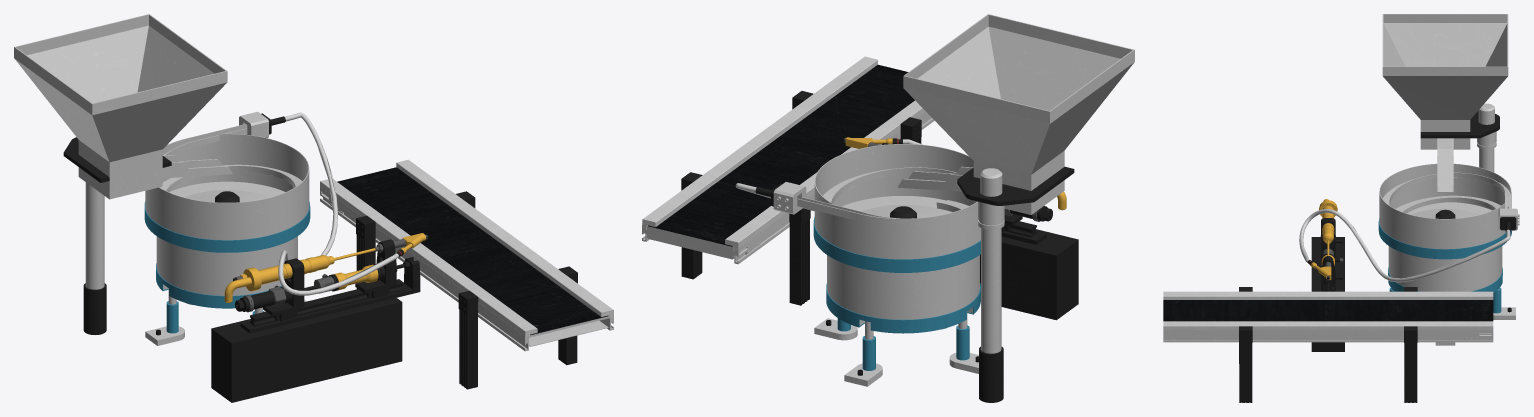
File: Pin_Insertion_Station.glb
The picture shows the model from 3 angles, left to right: view 1: azimuth 30°, elevation 25°; view 2: azimuth 150°, elevation 25°; view 3: azimuth 270°, elevation 25°; orthographic projection. The views are drawn at different scales.
Visible parts, largest first — view 1: color-25[25].001, color.008, color-25[20].001, color-26[2].001, color-25[5].001, color-26[3].001, color-26[4].001, color-26[5].001, color-25.001, color-25[29].001, color-15.002, color-21.002 (+9 smaller); view 2: color-25[25].001, color-25[20].001, color-26[2].001, color-25[5].001, color.008, color-26[3].001, color-25[29].001, color-25.001, color-25[6].001, color-25[21].001, color-26[4].001, color-27.001 (+14 smaller); view 3: color-25[25].001, color-25[20].001, color-26[2].001, color-26[5].001, color-25[5].001, color-26[3].001, color-26[4].001, color.008, color-25[21].001, color-21.002, color-25.001, color-27[2].001 (+7 smaller).
Boxes of the visible parts, left/top/right/bottom form: color-25[25].001: left=14, top=14, right=232, bottom=199; color.008: left=211, top=239, right=420, bottom=402; color-25[20].001: left=145, top=133, right=309, bottom=240; color-26[2].001: left=337, top=167, right=608, bottom=335; color-25[5].001: left=156, top=236, right=297, bottom=295; color-26[3].001: left=396, top=159, right=613, bottom=316; color-26[4].001: left=320, top=179, right=537, bottom=337; color-26[5].001: left=337, top=199, right=613, bottom=351; color-25.001: left=144, top=201, right=310, bottom=252; color-25[29].001: left=85, top=182, right=104, bottom=289; color-15.002: left=224, top=233, right=425, bottom=302; color-21.002: left=278, top=112, right=398, bottom=295; color-25[25].001: left=898, top=14, right=1134, bottom=214; color-25[20].001: left=814, top=144, right=980, bottom=259; color-26[2].001: left=648, top=64, right=914, bottom=246; color-25[5].001: left=827, top=255, right=979, bottom=325; color.008: left=881, top=143, right=1078, bottom=320; color-26[3].001: left=642, top=56, right=877, bottom=226; color-25[29].001: left=981, top=228, right=1001, bottom=353; color-25.001: left=813, top=217, right=980, bottom=272; color-25[6].001: left=826, top=283, right=980, bottom=333; color-25[21].001: left=797, top=167, right=968, bottom=220; color-26[4].001: left=725, top=100, right=925, bottom=249; color-27.001: left=789, top=208, right=810, bottom=305; color-25[25].001: left=1382, top=14, right=1508, bottom=192; color-25[20].001: left=1379, top=163, right=1511, bottom=249; color-26[2].001: left=1163, top=300, right=1493, bottom=321; color-26[5].001: left=1163, top=330, right=1468, bottom=342; color-25[5].001: left=1388, top=246, right=1502, bottom=291; color-26[3].001: left=1163, top=321, right=1493, bottom=330; color-26[4].001: left=1163, top=291, right=1493, bottom=299; color.008: left=1311, top=218, right=1344, bottom=351; color-25[21].001: left=1382, top=172, right=1511, bottom=213; color-21.002: left=1299, top=209, right=1510, bottom=282; color-25.001: left=1378, top=218, right=1511, bottom=259; color-27[2].001: left=1239, top=326, right=1252, bottom=402.
Bounding box in the file's own units: 1.12 × 0.7801 × 1.08.
8 materials, 8 textured.
